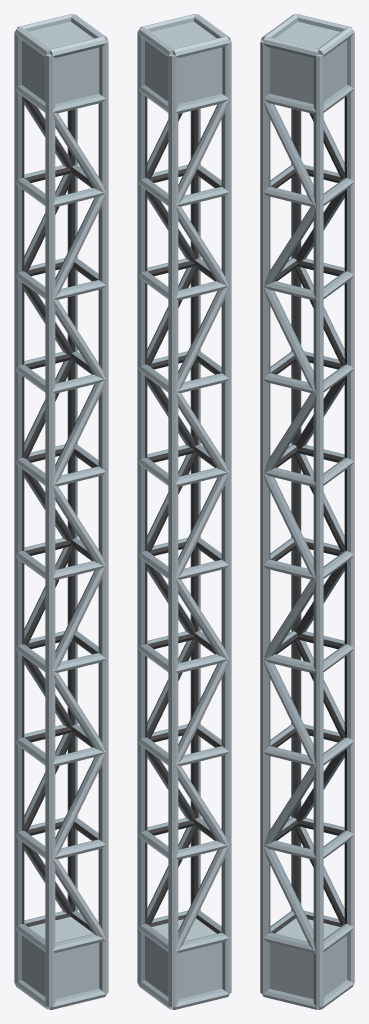
File: StageFrame-Small.fbx
The picture shows the model from 3 angles, left to right: view 1: azimuth 30°, elevation 25°; view 2: azimuth 210°, elevation 25°; view 3: azimuth 330°, elevation 25°; orthographic projection.
Parts seen in each view (by area): view 1: StageFrame_Small; view 2: StageFrame_Small; view 3: StageFrame_Small.
Part boxes in pixels (x1,y1,x2,y2): StageFrame_Small: [14, 14, 108, 1009]; StageFrame_Small: [137, 14, 231, 1009]; StageFrame_Small: [260, 14, 354, 1009].
Size of the model in its own units: 35 by 515 by 35.
